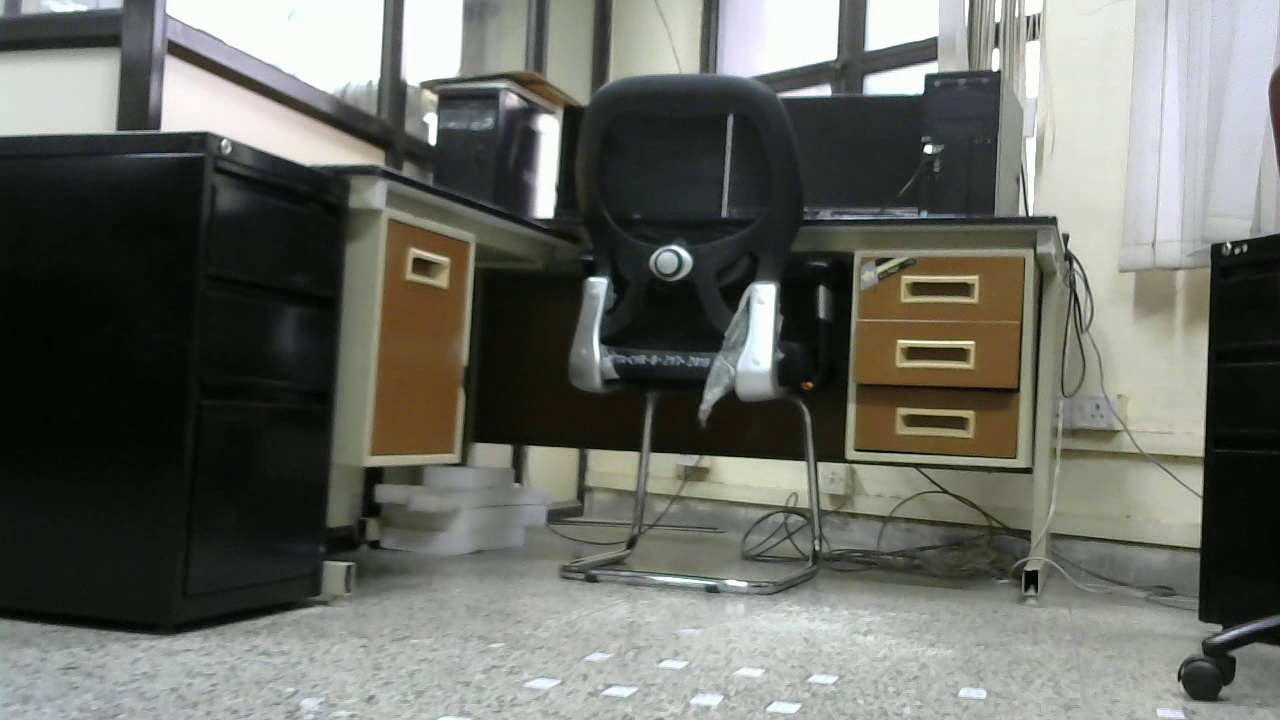chair: (560, 69, 820, 593)
